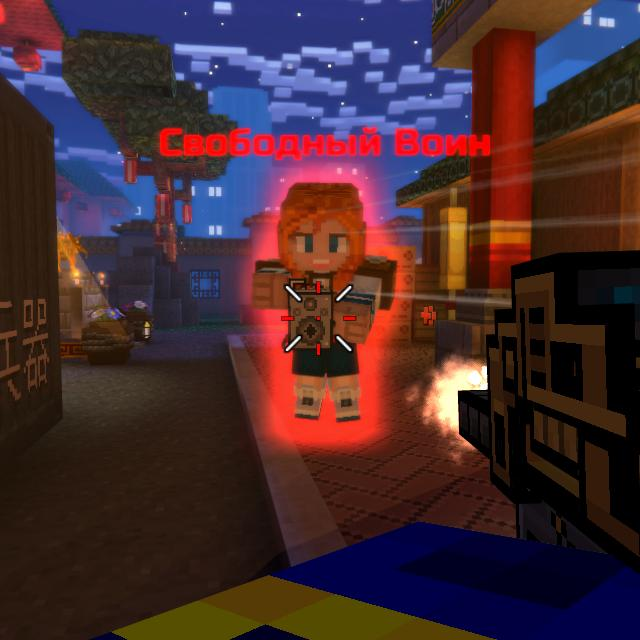Enemy: (252, 182, 398, 423)
